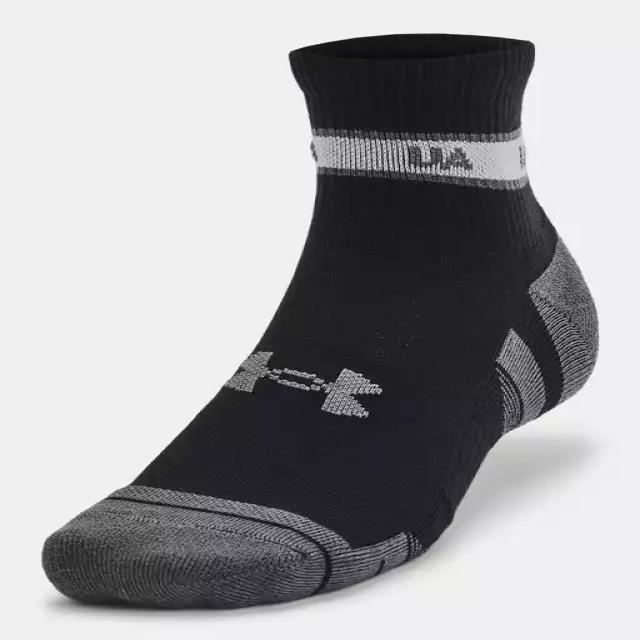sock: (40, 31, 600, 610)
